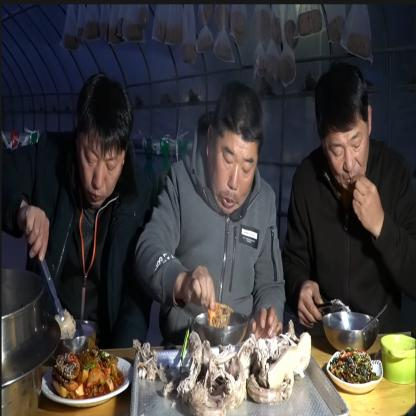streamer: (1, 67, 157, 348), (136, 77, 286, 348), (282, 58, 416, 332)
